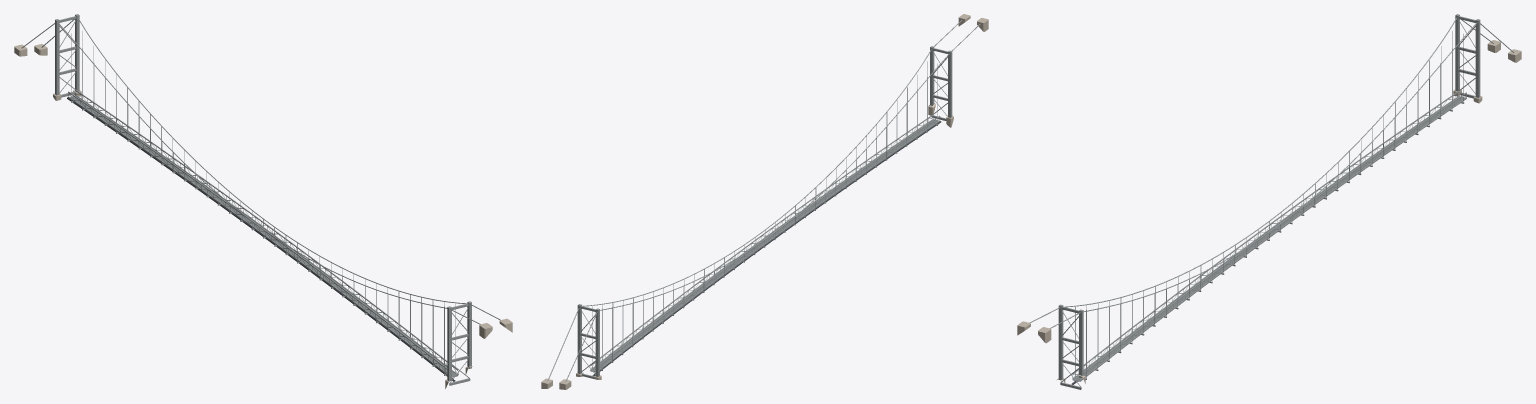
File: grand-canyon-bright-angel-suspension-bridge.detail.glb
3 views of the same model, side by side, from view 1: azimuth 30°, elevation 25°; view 2: azimuth 150°, elevation 25°; view 3: azimuth 330°, elevation 25° (orthographic). The views are drawn at different scales.
Visible parts, largest first — view 1: Bright Angel Suspension Bridge; view 2: Bright Angel Suspension Bridge; view 3: Bright Angel Suspension Bridge.
Part boxes in pixels (x1=…): Bright Angel Suspension Bridge: x1=14, y1=14, x2=512, y2=388; Bright Angel Suspension Bridge: x1=541, y1=14, x2=988, y2=389; Bright Angel Suspension Bridge: x1=1017, y1=14, x2=1521, y2=389.
Size of the model in its own units: 6.8 by 20.8 by 194.
